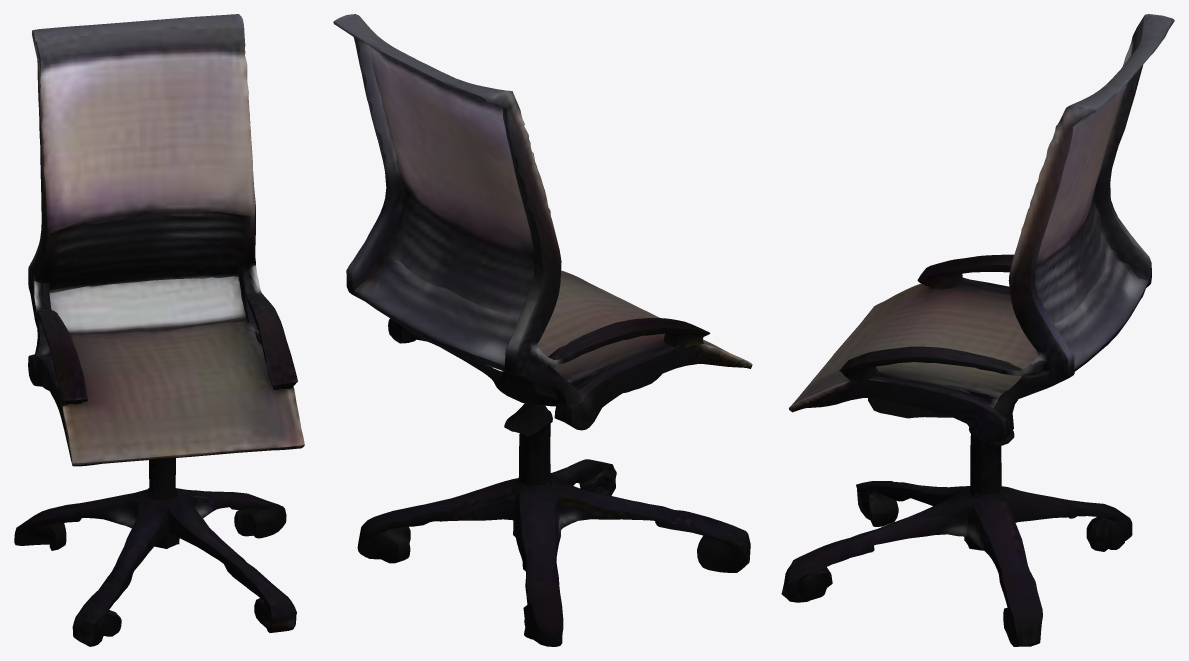
3 renders of one model, left to right at view 1: azimuth 30°, elevation 25°; view 2: azimuth 150°, elevation 25°; view 3: azimuth 270°, elevation 25°, orthographic. The views are drawn at different scales.
Visible parts, largest first — view 1: world; view 2: world; view 3: world.
Boxes of the visible parts, x1=… form: world: x1=14, y1=14, x2=304, y2=646; world: x1=333, y1=14, x2=752, y2=646; world: x1=781, y1=14, x2=1174, y2=646.
Size of the model in its own units: 0.2659 by 0.4517 by 0.2972.
Materials: 1 (1 with a texture image).
